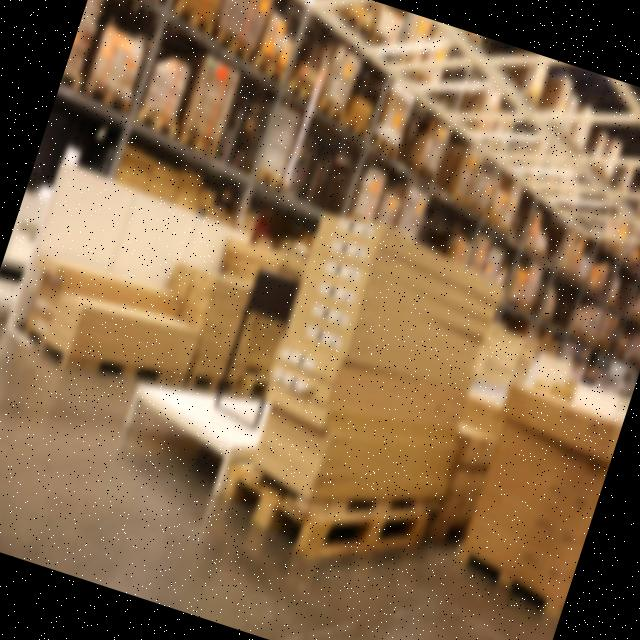Wooden-Pallets: (226, 458, 431, 558), (440, 530, 566, 634)
